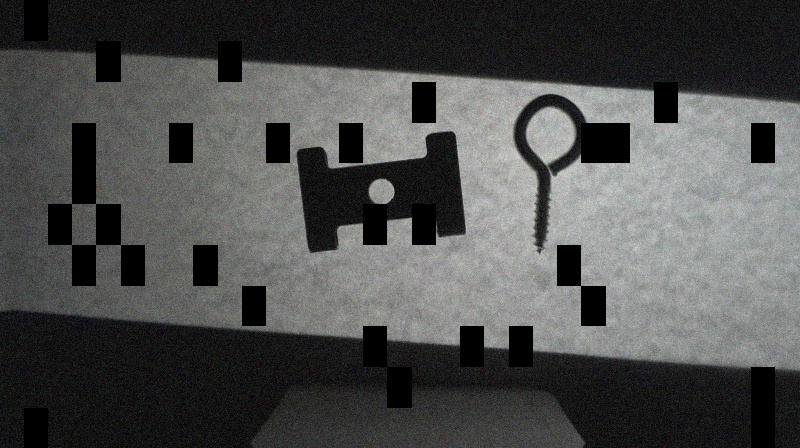O001: (509, 93, 589, 256)
O002: (297, 130, 464, 253)
